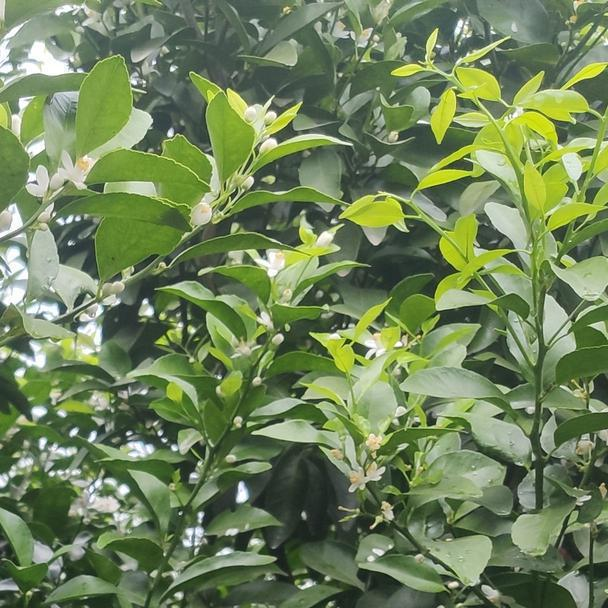shoot: (405, 39, 547, 215), (363, 183, 507, 307)
